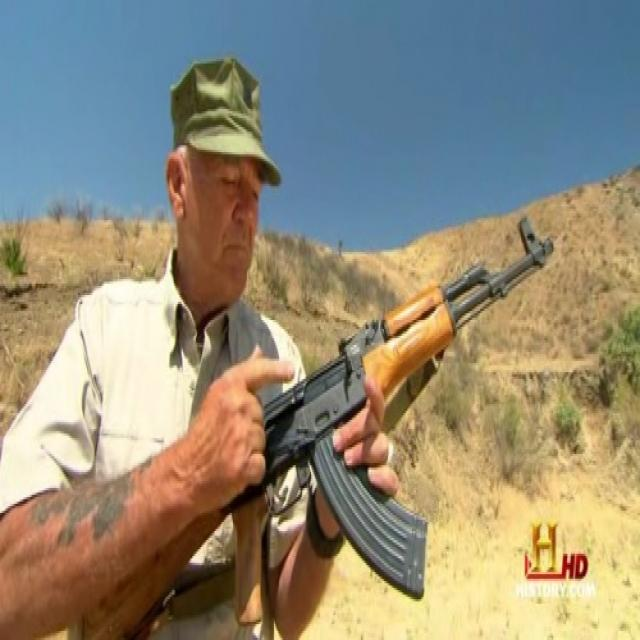rifle: (86, 210, 557, 640)
